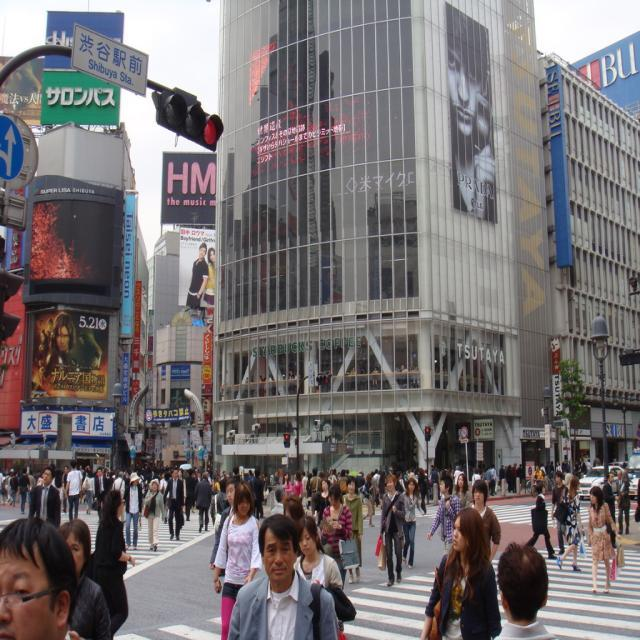traffic light: (154, 92, 229, 147)
